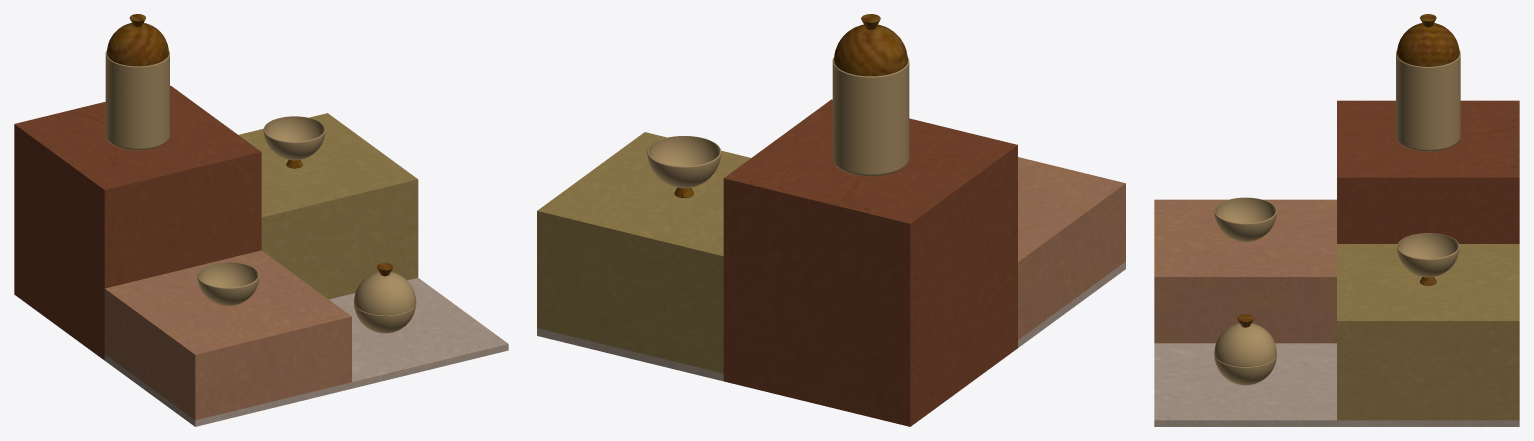
The model's file is sense-rituals.glb.
3 renders of one model, left to right at view 1: azimuth 30°, elevation 25°; view 2: azimuth 150°, elevation 25°; view 3: azimuth 270°, elevation 25°, orthographic. The views are drawn at different scales.
Visible parts, largest first — view 1: Body4, Body6, Body5, Body10, Body1, Body1:1, Body1:2, Body3, Body7, Body9; view 2: Body4, Body5, Body6, Body1, Body1:1, Body1:2, Body10; view 3: Body5, Body6, Body4, Body10, Body1, Body1:1, Body1:2, Body3, Body7, Body9.
Boxes of the visible parts, x1,y1,x2,y2 form: Body4: (14,86,261,360); Body6: (104,250,351,420); Body5: (239,113,418,299); Body10: (104,278,508,426); Body1: (105,50,169,150); Body1:1: (107,14,168,66); Body1:2: (263,116,325,160); Body3: (197,262,259,305); Body7: (354,272,416,315); Body9: (354,303,416,333); Body4: (723,99,1017,426); Body5: (537,132,750,373); Body6: (1018,157,1125,339); Body1: (832,57,909,176); Body1:1: (834,14,907,76); Body1:2: (647,136,721,188); Body10: (537,261,1125,381); Body5: (1337,244,1519,420); Body6: (1154,199,1336,343); Body4: (1337,100,1519,243); Body10: (1154,343,1519,426); Body1: (1396,51,1460,151); Body1:1: (1397,14,1459,66); Body1:2: (1397,233,1459,277); Body3: (1214,197,1276,241); Body7: (1214,323,1276,366); Body9: (1214,355,1276,385).
Bounding box in the file's own units: 0.05 × 0.0444 × 0.05.
Materials: 12 (7 with a texture image).
